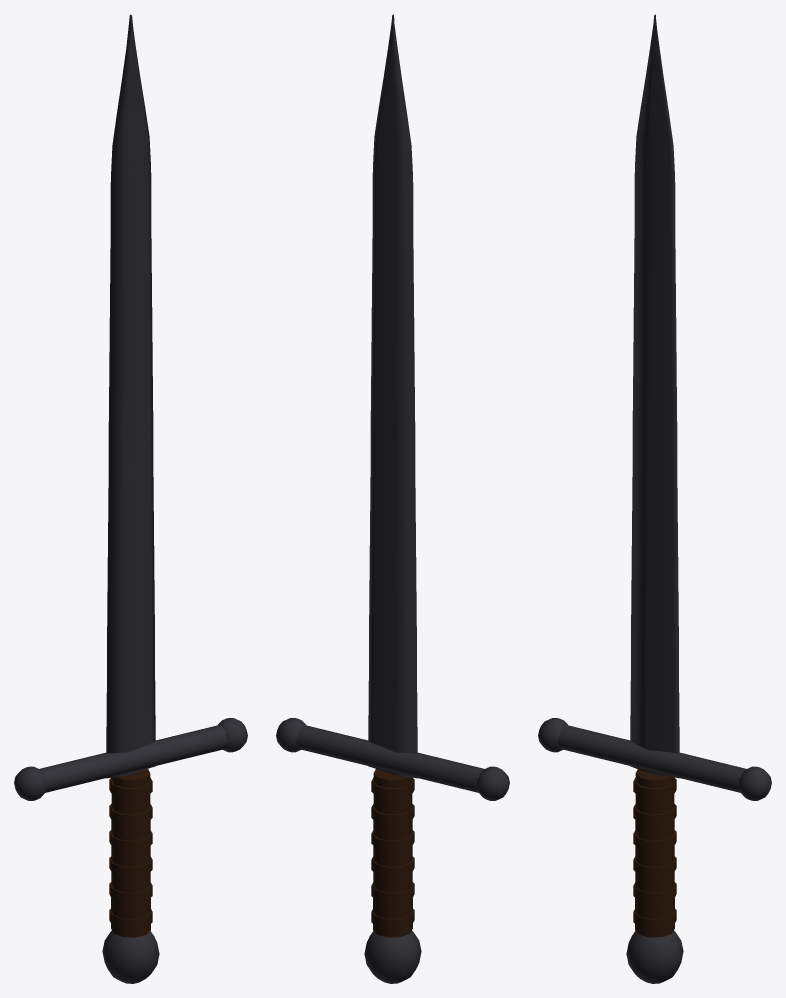
File: SM_Art_Weapon_TwinShortsword.gltf
3 views of the same model, side by side, from view 1: azimuth 30°, elevation 25°; view 2: azimuth 150°, elevation 25°; view 3: azimuth 330°, elevation 25° (orthographic).
Visible parts, largest first — view 1: SM_Art_Weapon_TwinShortsword; view 2: SM_Art_Weapon_TwinShortsword; view 3: SM_Art_Weapon_TwinShortsword.
Part boxes in pixels (x1,y1,x2,y2): SM_Art_Weapon_TwinShortsword: [14, 14, 247, 983]; SM_Art_Weapon_TwinShortsword: [276, 14, 509, 983]; SM_Art_Weapon_TwinShortsword: [538, 14, 771, 983].
Size of the model in its own units: 0.1841 by 0.74 by 0.0381.
